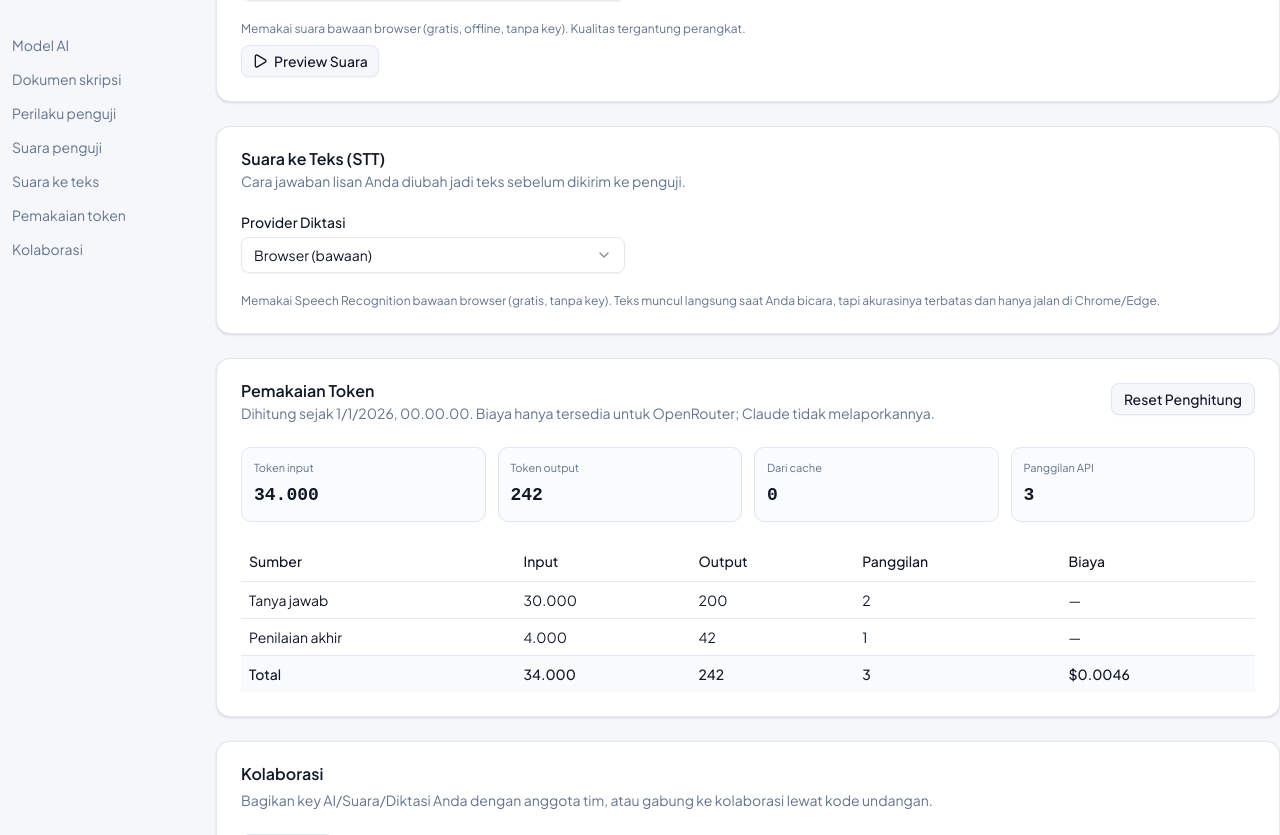
SettingsPage › renders token totals per source and resets the counter
This screenshot has width=1280, height=835.
(page scrolled)
Check: the text "34.000" is shown 2 times, box x1=254 y1=484 x2=319 y2=504; x1=516 y1=656 x2=691 y2=692
Check: the text "Tanya jawab" is shown, box x1=241 y1=582 x2=516 y2=618
Click the button "Reset Penghitung": x=1183, y=399 x1=1111 y1=383 x2=1255 y2=415
(page scrolled)
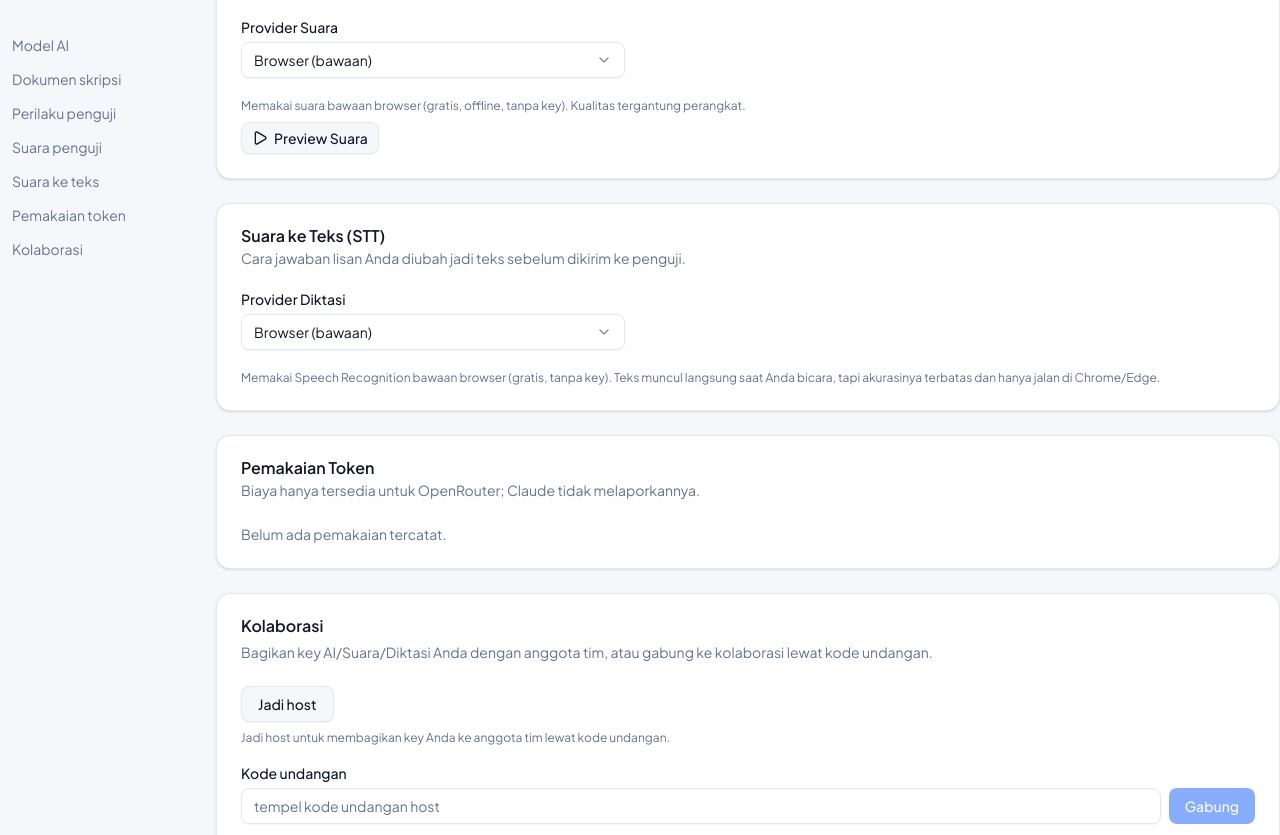
Check: the text "Belum ada pemakaian tercatat." is shown, box x1=241 y1=525 x2=447 y2=543
